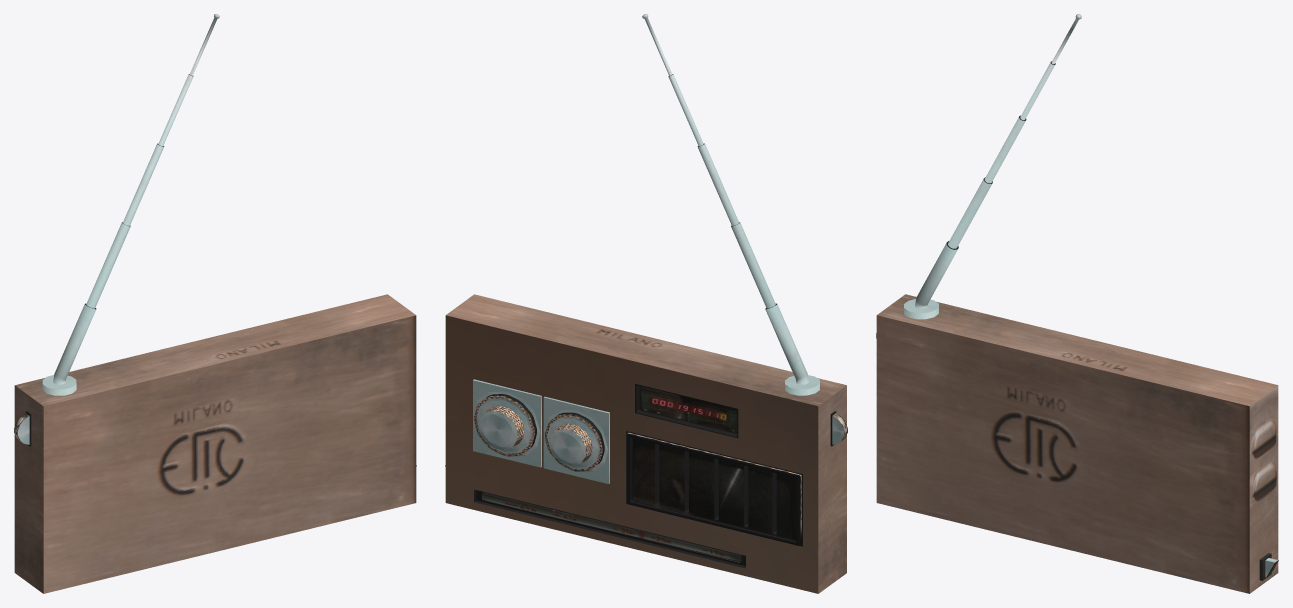
Rendered from radio.fbx.
3 renders of one model, left to right at view 1: azimuth 30°, elevation 25°; view 2: azimuth 150°, elevation 25°; view 3: azimuth 330°, elevation 25°, orthographic.
Visible parts, largest first — view 1: Cube; view 2: Cube; view 3: Cube.
Boxes of the visible parts, x1=… form: Cube: x1=14, y1=14, x2=416, y2=593; Cube: x1=445, y1=14, x2=847, y2=593; Cube: x1=876, y1=14, x2=1278, y2=593.
Size of the model in its own units: 0.3212 by 0.0543 by 0.4025.
